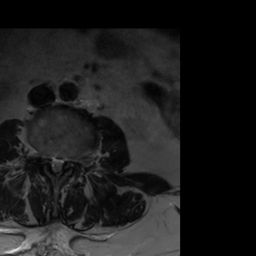CCS_severe_stenosis: (54, 152, 59, 178)
LFS_severe_stenosis: (67, 153, 75, 168)
LLS_severe_stenosis: (60, 153, 66, 169)
RFS_severe_stenosis: (40, 150, 48, 167)
RLS_stenosis: (49, 151, 55, 170)
